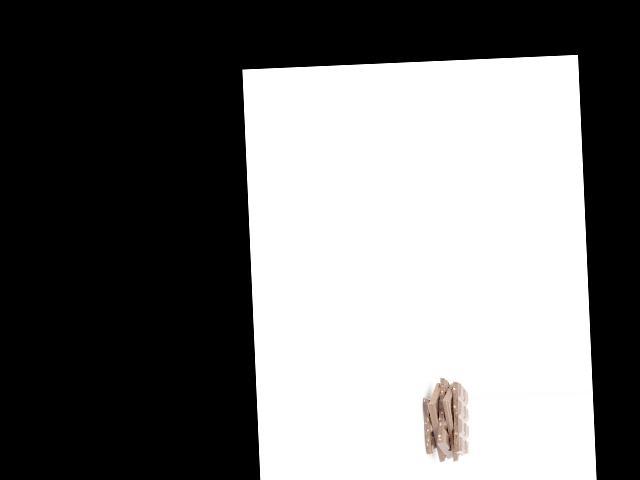chocolate: (417, 383, 452, 461)
